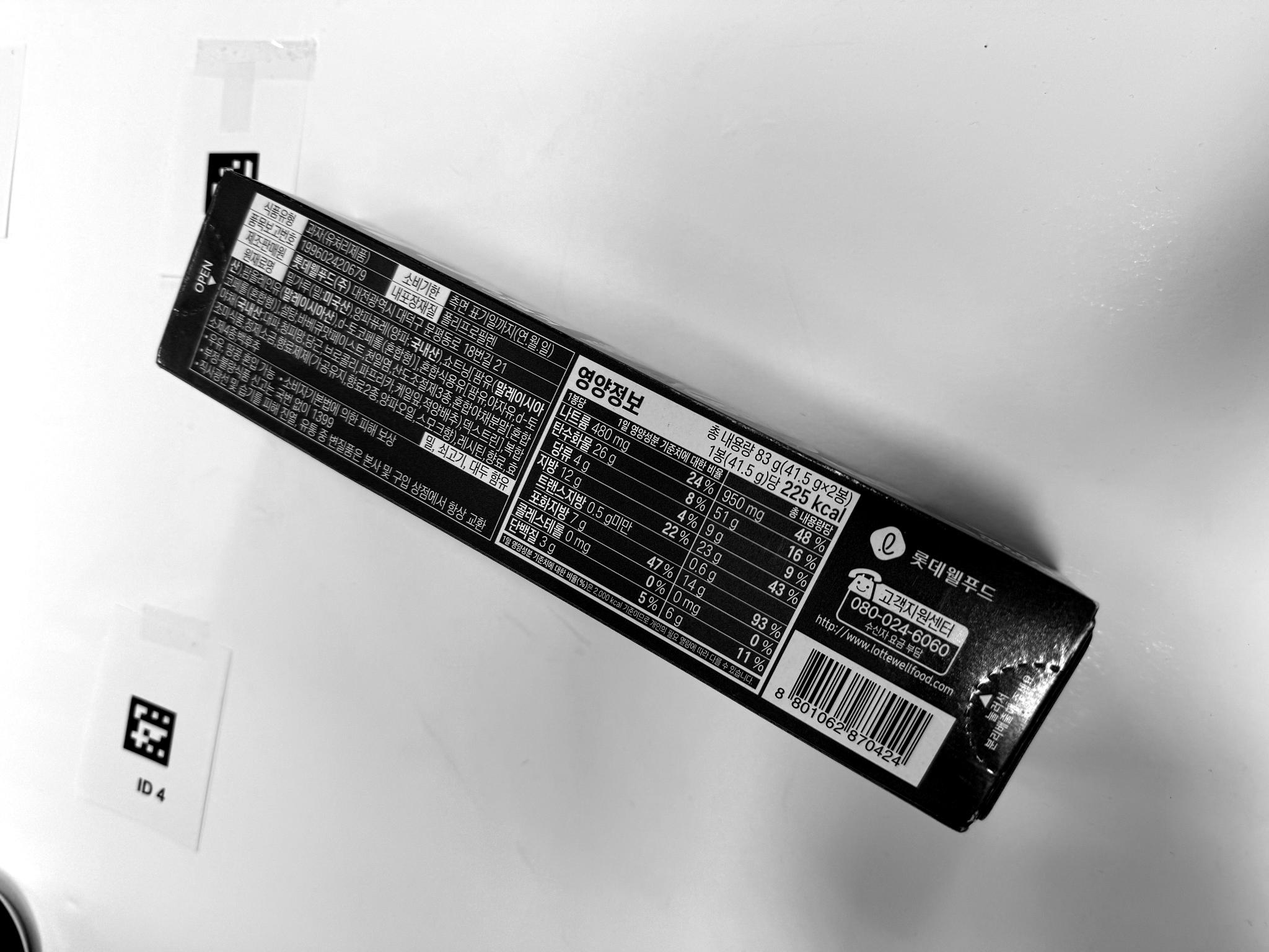cracker_vege: (156, 176, 1096, 828)
